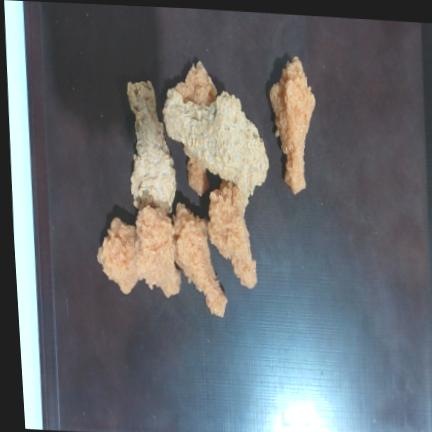chicken: (163, 88, 268, 209), (127, 81, 176, 214), (173, 204, 227, 316), (207, 180, 256, 288), (135, 206, 180, 296), (97, 217, 138, 293), (173, 61, 217, 105), (187, 157, 209, 194)
